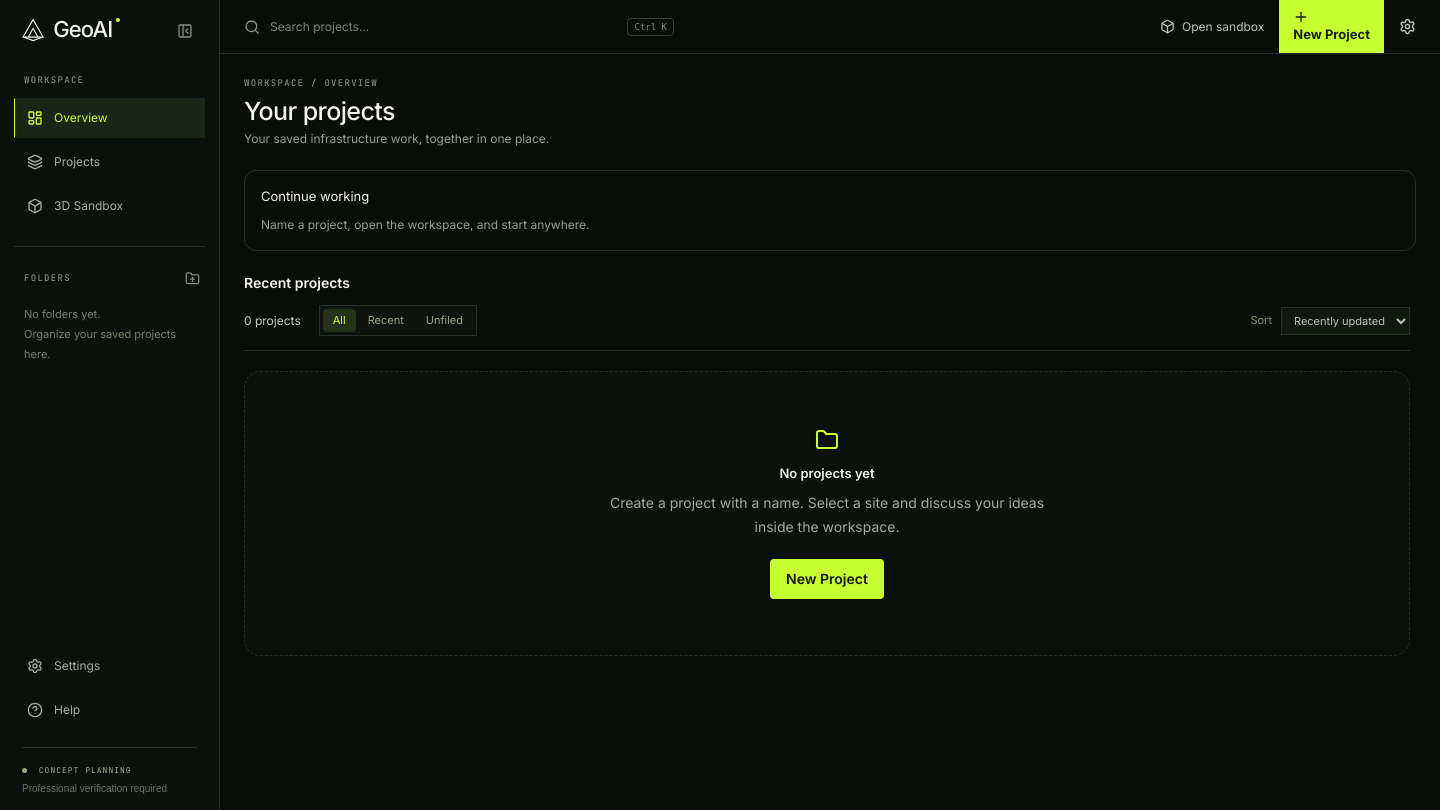
Test: name-only project entry › Escape closes and returns focus to the primary action
Expected: the heading "No projects yet" is shown, [779,465,875,481]
Click the button "New Project" next to "Open sandbox": (1332, 27) [1279,0,1384,53]
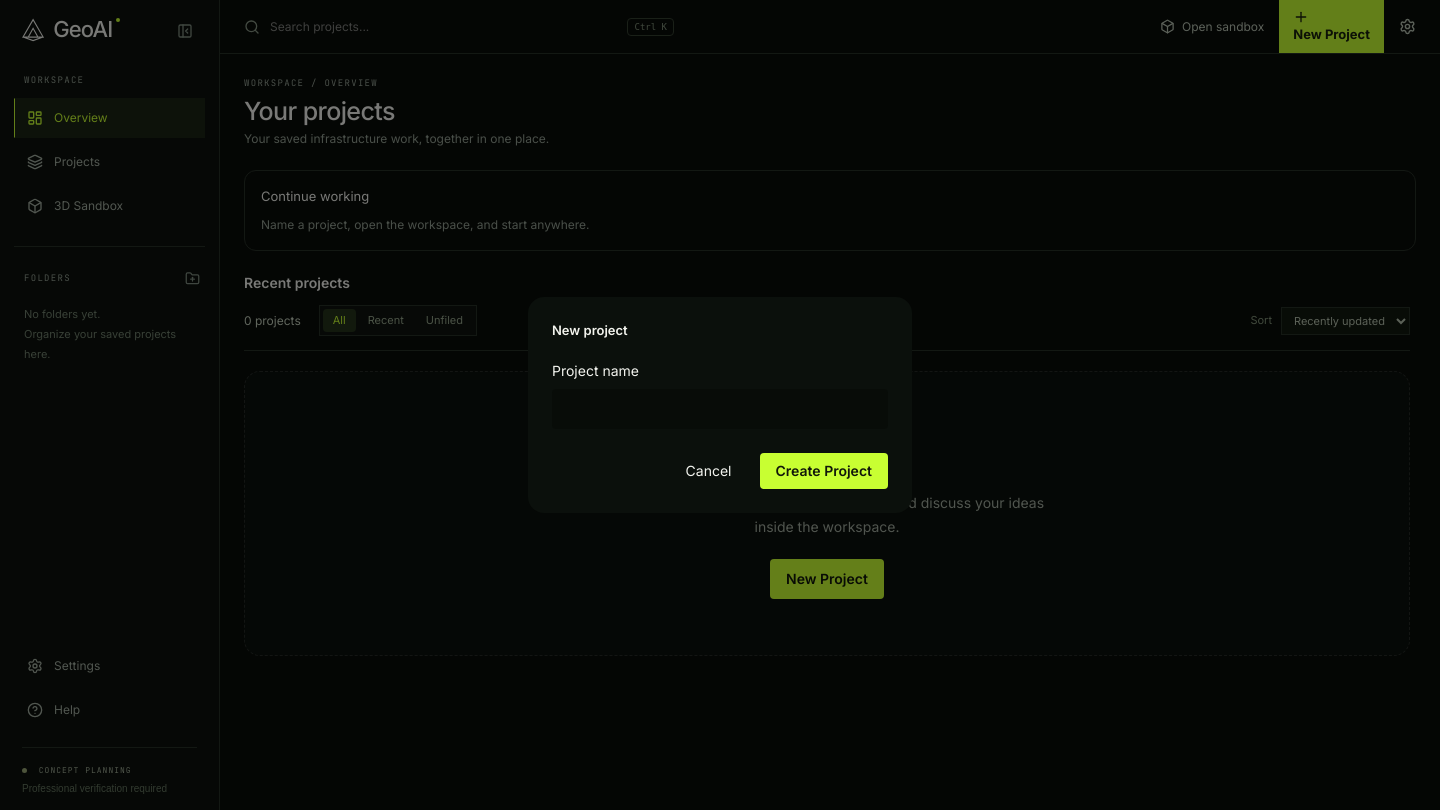
Press Escape
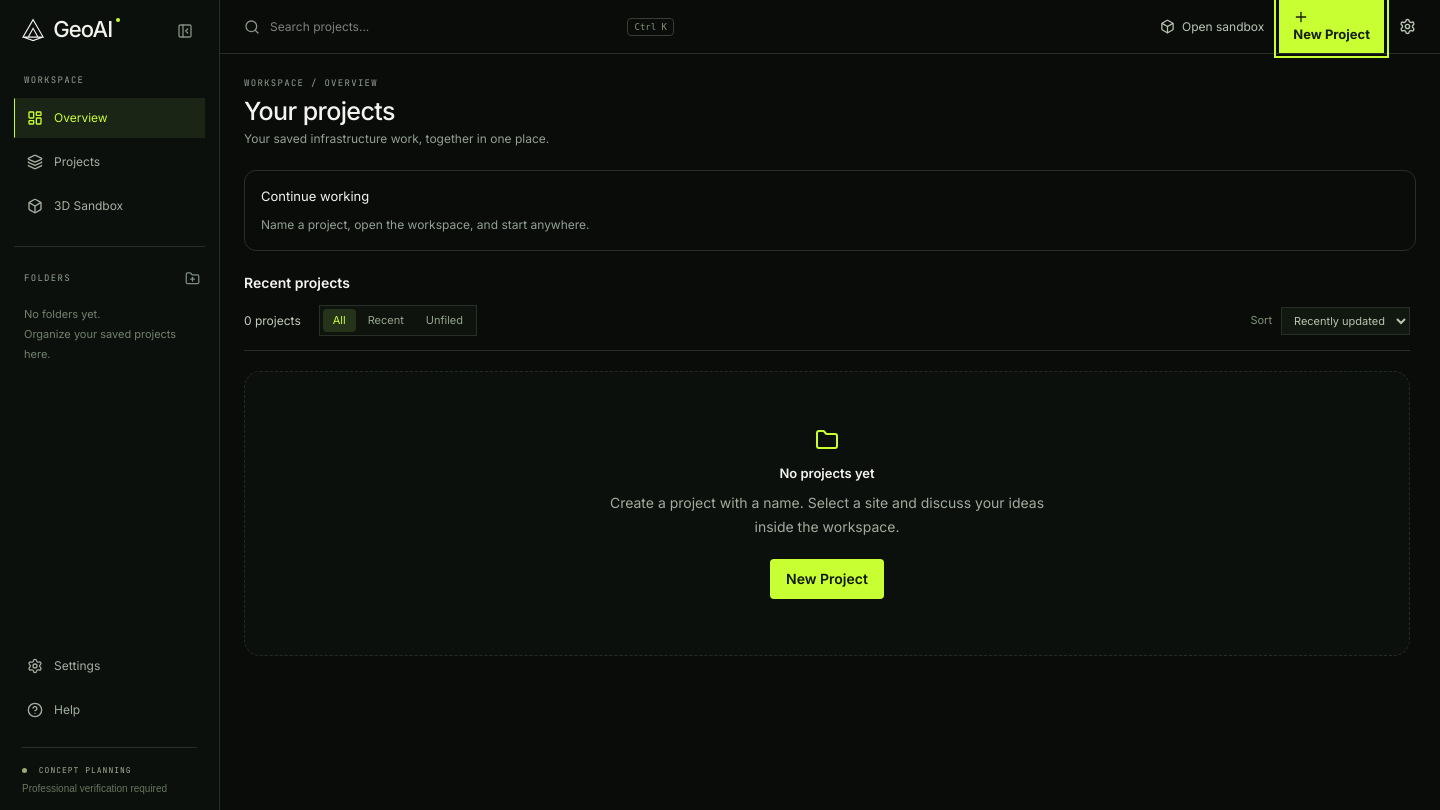
Result: the dialog is gone
